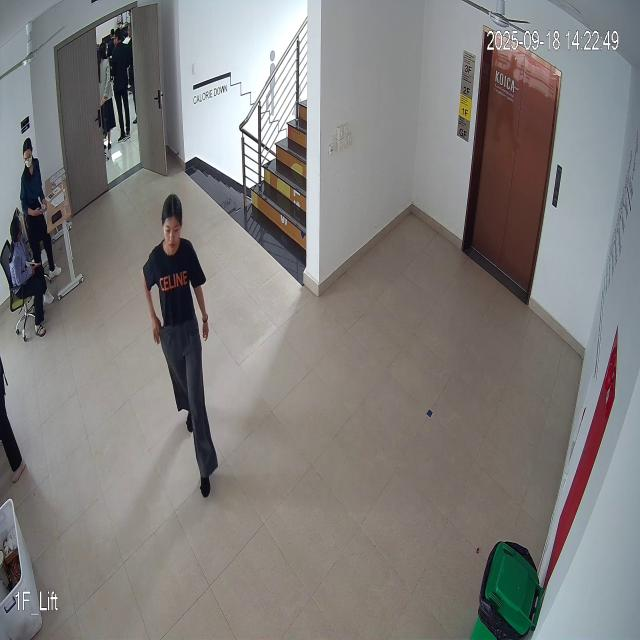face: (160, 195, 183, 257)
